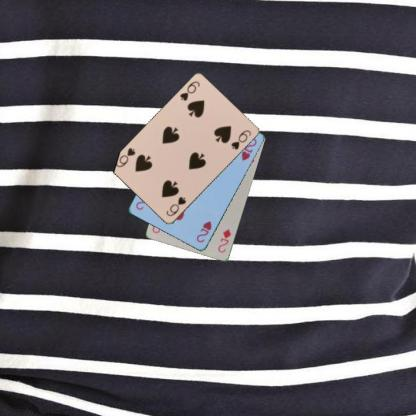2d: (216, 227, 232, 254)
2h: (194, 218, 212, 244)
6s: (164, 194, 187, 218), (177, 79, 201, 102)
